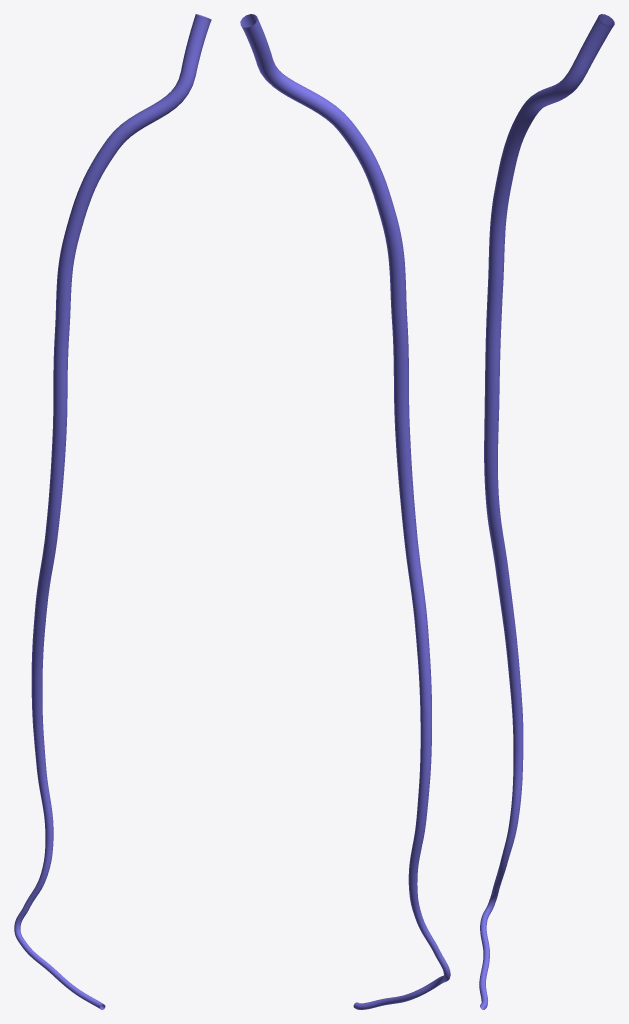
Rendered from Posterior_tibial_veins.l_BezierCurve.323.glb.
The picture shows the model from 3 angles, left to right: view 1: azimuth 30°, elevation 25°; view 2: azimuth 210°, elevation 25°; view 3: azimuth 330°, elevation 25°; orthographic projection. The views are drawn at different scales.
Visible parts, largest first — view 1: Posterior_tibial_veins.l_BezierCurve.323; view 2: Posterior_tibial_veins.l_BezierCurve.323; view 3: Posterior_tibial_veins.l_BezierCurve.323.
Boxes of the visible parts, box(x1,y1,x2,y2) form: Posterior_tibial_veins.l_BezierCurve.323: box(14, 14, 211, 1009); Posterior_tibial_veins.l_BezierCurve.323: box(240, 14, 450, 1009); Posterior_tibial_veins.l_BezierCurve.323: box(479, 14, 614, 1009).
Bounding box in the file's own units: 0.0577 × 0.3361 × 0.0333.
